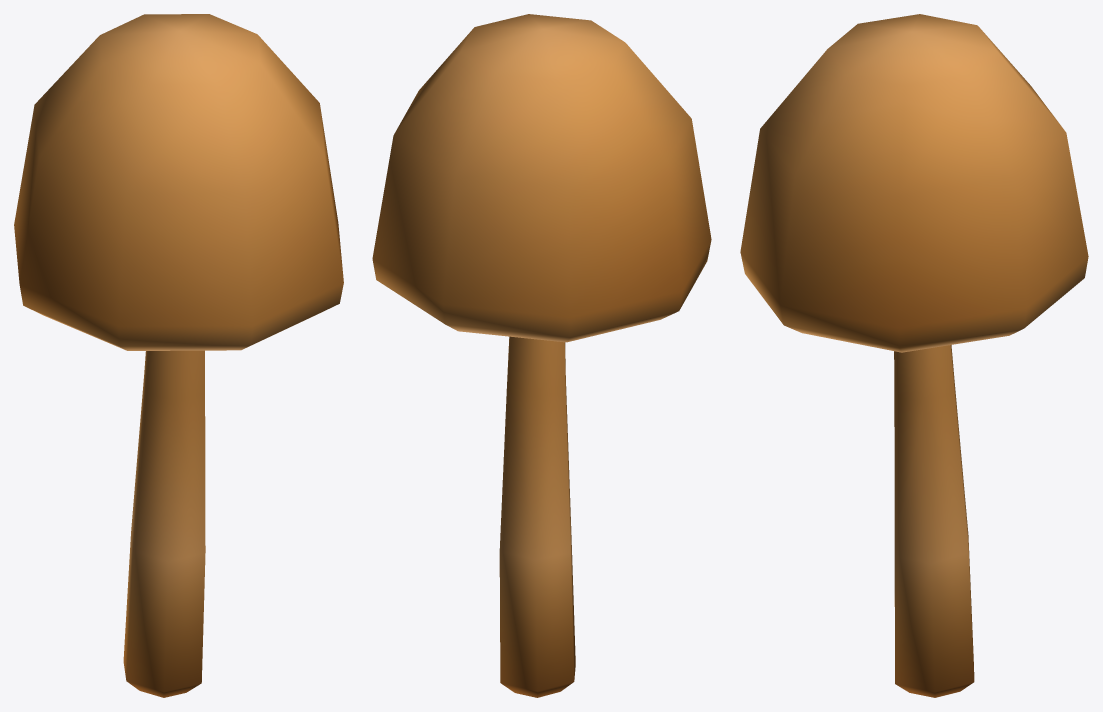
Rendered from SM_EnokiMushroom_D.fbx.
The picture shows the model from 3 angles, left to right: view 1: azimuth 30°, elevation 25°; view 2: azimuth 150°, elevation 25°; view 3: azimuth 270°, elevation 25°; orthographic projection. The views are drawn at different scales.
Parts seen in each view (by area): view 1: SM_EnokiMushroom_D; view 2: SM_EnokiMushroom_D; view 3: SM_EnokiMushroom_D.
Boxes of the visible parts, <box> form: SM_EnokiMushroom_D: <box>14,14,343,697</box>; SM_EnokiMushroom_D: <box>372,14,711,697</box>; SM_EnokiMushroom_D: <box>740,14,1088,697</box>.
Bounding box in the file's own units: 7.54 × 15.73 × 7.54.
